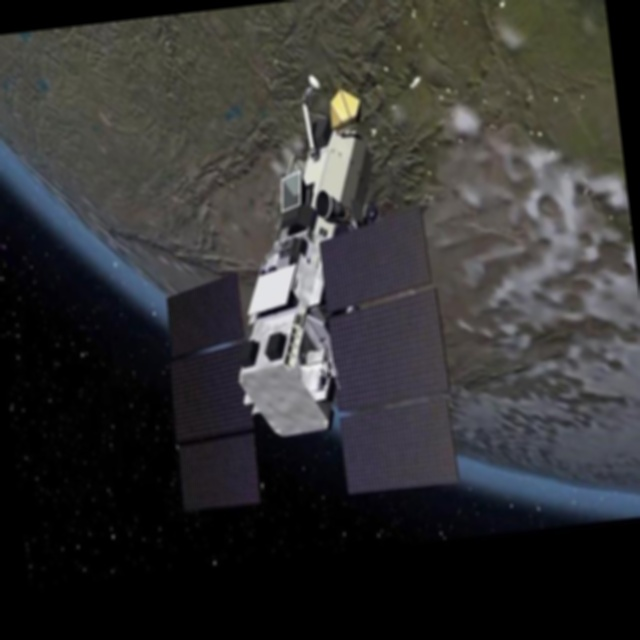medium_debris: (125, 47, 478, 542)
